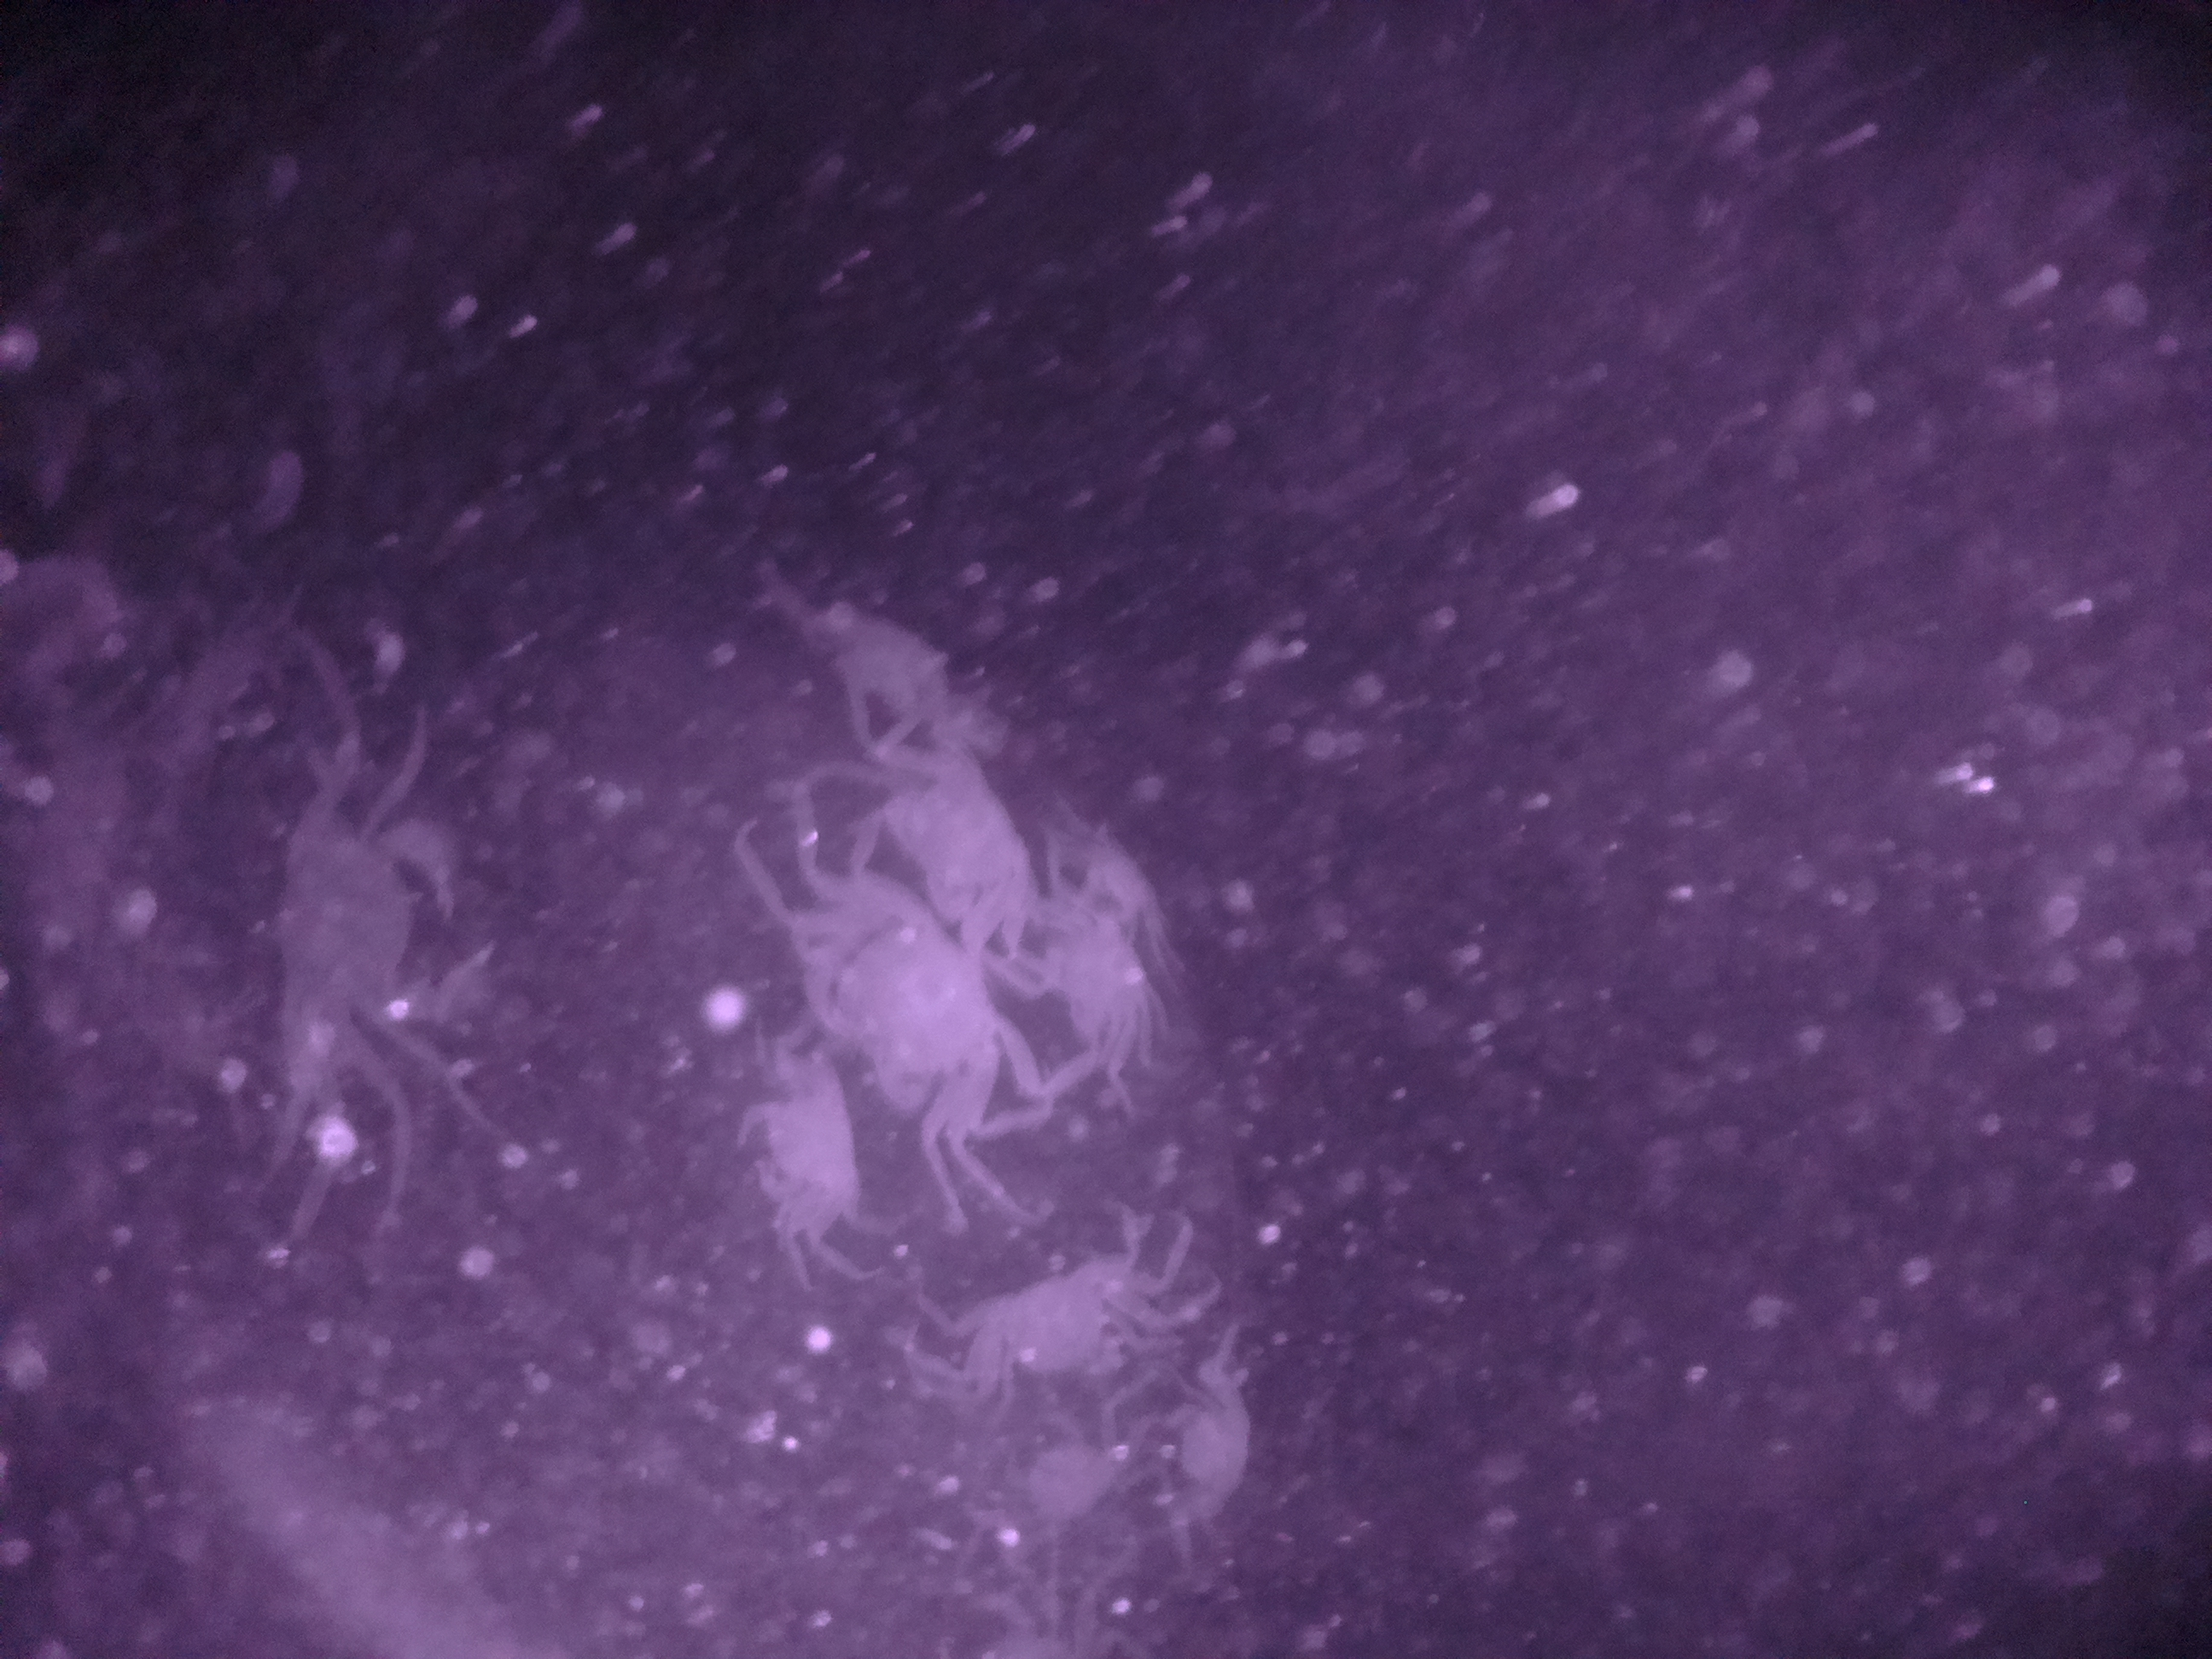Crab: (850, 734, 1057, 981), (953, 1237, 1155, 1405), (1157, 1371, 1270, 1520)
